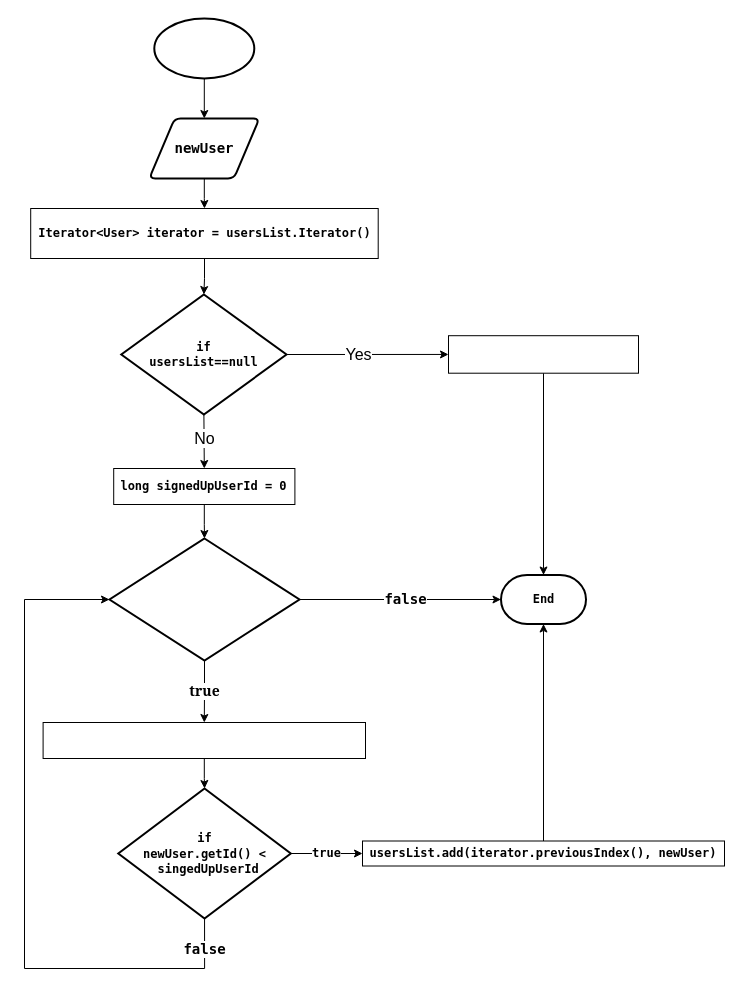
This 742x994 diagram has some shape labels left out. The centre of each missing label's shape, as x and y in pixels:
"iterator.add( newUser )" goes at point (543, 354).
"signedUpUserId = iterator.next().getId()" goes at point (204, 740).
"Start" goes at point (204, 48).
"while iterator.hasNext()" goes at point (204, 599).
